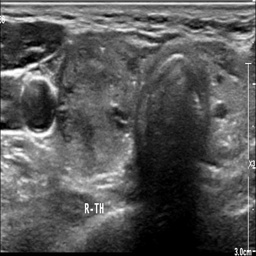mass: (134, 43, 209, 190)
